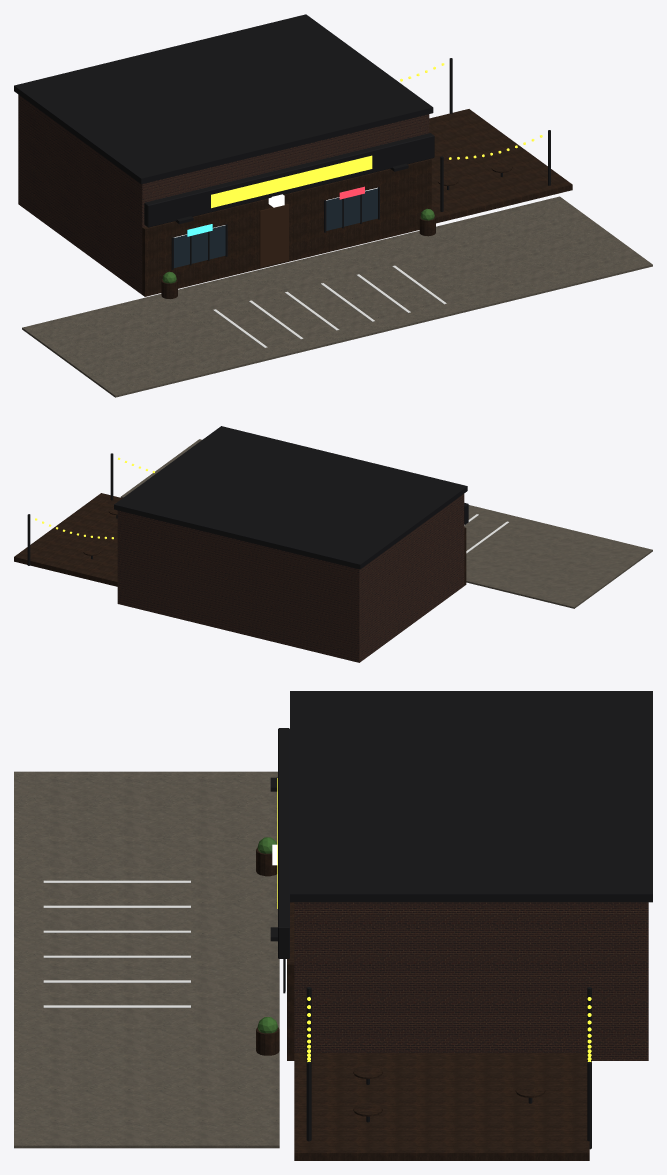
Rendered from OT_Bar_A.glb.
3 views of the same model, one above another, from view 1: azimuth 30°, elevation 25°; view 2: azimuth 150°, elevation 25°; view 3: azimuth 270°, elevation 25° (orthographic). The views are drawn at different scales.
Visible parts, largest first — view 1: OT_Bar_A_Pavement, OT_Bar_A_BarBlack__141416, OT_Bar_A_Wood, OT_Bar_A_Brick, OT_Bar_A_Glass__22303a, OT_Bar_A_NeonAmber__ffb02a, OT_Bar_A_BarDoor__3a2416, OT_Bar_A_PaintWhite__f0f0ee; view 2: OT_Bar_A_Brick, OT_Bar_A_BarBlack__141416, OT_Bar_A_Pavement, OT_Bar_A_Wood; view 3: OT_Bar_A_Pavement, OT_Bar_A_BarBlack__141416, OT_Bar_A_Brick, OT_Bar_A_Wood, OT_Bar_A_PaintWhite__f0f0ee.
Boxes of the visible parts, x1,y1,x2,y2 form: OT_Bar_A_Pavement: [22, 196, 652, 397]; OT_Bar_A_BarBlack__141416: [14, 14, 550, 269]; OT_Bar_A_Wood: [142, 109, 572, 298]; OT_Bar_A_Brick: [18, 94, 429, 294]; OT_Bar_A_Glass__22303a: [174, 188, 377, 267]; OT_Bar_A_NeonAmber__ffb02a: [211, 63, 542, 208]; OT_Bar_A_BarDoor__3a2416: [259, 204, 288, 267]; OT_Bar_A_PaintWhite__f0f0ee: [213, 265, 446, 347]; OT_Bar_A_Brick: [117, 494, 464, 662]; OT_Bar_A_BarBlack__141416: [27, 426, 468, 569]; OT_Bar_A_Pavement: [120, 439, 652, 608]; OT_Bar_A_Wood: [14, 493, 466, 586]; OT_Bar_A_Pavement: [14, 771, 279, 1148]; OT_Bar_A_BarBlack__141416: [270, 691, 652, 1149]; OT_Bar_A_Brick: [294, 902, 648, 1060]; OT_Bar_A_Wood: [256, 847, 589, 1160]; OT_Bar_A_PaintWhite__f0f0ee: [43, 880, 190, 1007].
Size of the model in its own units: 31 by 6.3 by 21.65.
13 materials, 3 textured.
